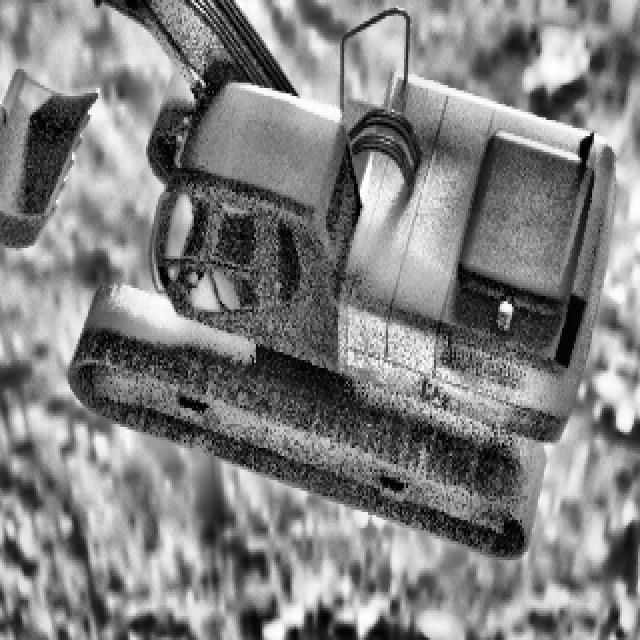excavator: (0, 0, 614, 557)
